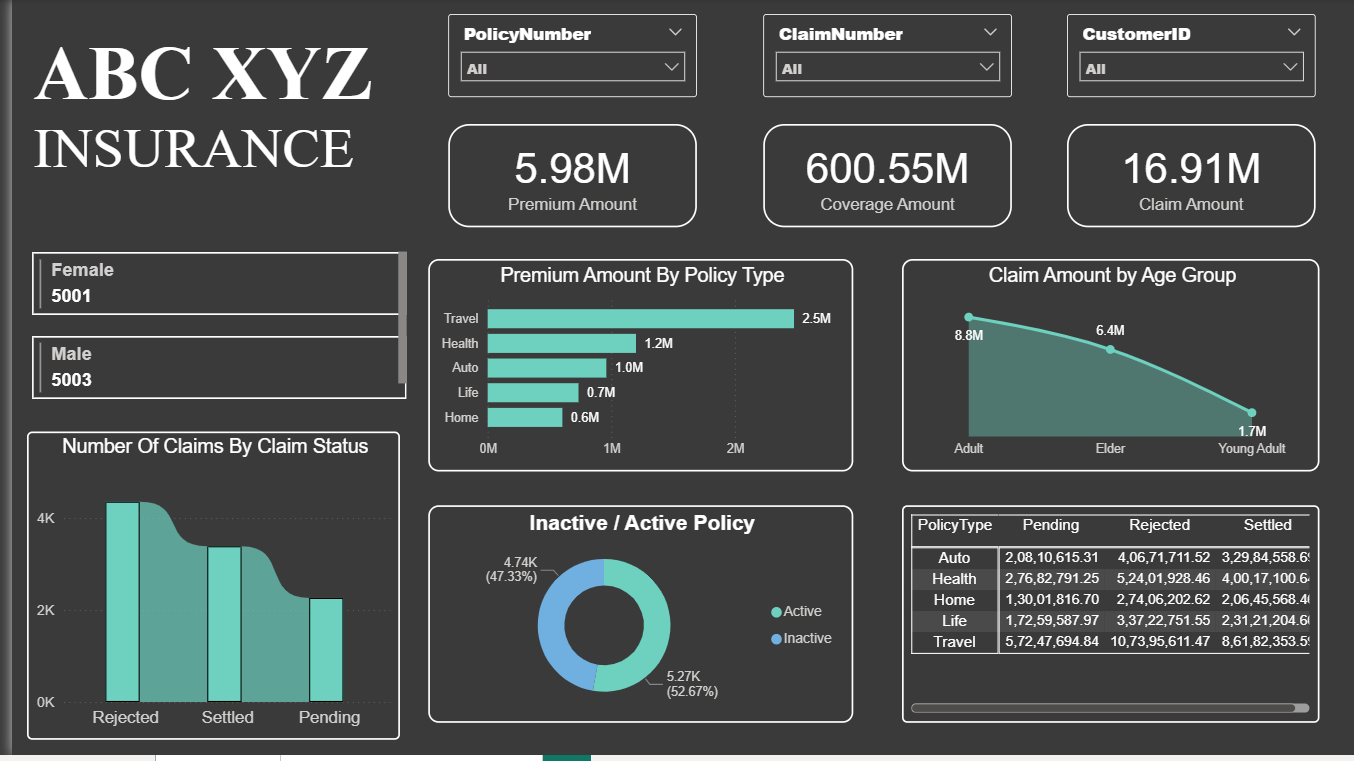

The page's visual inventory and layout, read from the dashboard file:
{"tool":"powerbi","page":{"name":"Dashboard","canvas":[1280,720],"ordinal":0},"visuals":[{"type":"slicer","fields":{"Values":["biproject insurancedata.PolicyNumber"]},"box":[416.1,14.8,237,79],"z":0},{"type":"slicer","fields":{"Values":["biproject insurancedata.ClaimNumber"]},"box":[716.1,14.8,237,79],"z":1000},{"type":"slicer","fields":{"Values":["biproject insurancedata.CustomerID"]},"box":[1004.9,14.8,237,79],"z":2000},{"type":"textbox","box":[15.1,24.7,334.8,163.3],"z":3000},{"type":"card","fields":{"Values":["Sum(biproject insurancedata.PremiumAmount)"]},"box":[416.1,118.5,237,98.8],"z":4000},{"type":"card","fields":{"Values":["Sum(biproject insurancedata.CoverageAmount)"]},"box":[716.1,118.5,237,98.8],"z":5000},{"type":"card","fields":{"Values":["Sum(biproject insurancedata.ClaimAmount)"]},"box":[1004.9,118.5,237,98.8],"z":6000},{"type":"multiRowCard","fields":{"Values":["biproject insurancedata.Gender","CountNonNull(biproject insurancedata.Gender)"]},"box":[14.8,235.8,366.7,151.9],"z":7000},{"type":"ribbonChart","title":"Number Of Claims By Claim Status","fields":{"Category":["biproject insurancedata.ClaimStatus"],"Y":["CountNonNull(biproject insurancedata.ClaimStatus)"]},"box":[14.8,412.3,355.6,293.8],"z":8000},{"type":"barChart","title":"Premium Amount By Policy Type","fields":{"Category":["biproject insurancedata.PolicyType"],"Y":["Sum(biproject insurancedata.PremiumAmount)"]},"box":[396.4,247.6,404.8,202.4],"z":9000},{"type":"lineChart","title":"Claim Amount by Age Group","fields":{"Category":["biproject insurancedata.Age Group"],"Y":["Sum(biproject insurancedata.ClaimAmount)"]},"box":[847.6,247.6,397.6,202.4],"z":10000},{"type":"donutChart","title":"Inactive / Active Policy","fields":{"Category":["biproject insurancedata.Active/Inactive"],"Y":["CountNonNull(biproject insurancedata.Active/Inactive)"]},"box":[396.4,482.1,404.8,207.1],"z":11000},{"type":"pivotTable","fields":{"Values":["Sum(biproject insurancedata.CoverageAmount)"],"Rows":["biproject insurancedata.PolicyType"],"Columns":["biproject insurancedata.ClaimStatus"]},"box":[847.6,482.1,397.6,207.1],"z":12000}]}

Visuals, with their boxes in screenshot pixels (x1, y1, x2, y2), scaled from the page's 1280x720 canvas onto the 1354x761 screenshot:
slicer - biproject insurancedata.PolicyNumber: box=[440, 16, 691, 99]
slicer - biproject insurancedata.ClaimNumber: box=[757, 16, 1008, 99]
slicer - biproject insurancedata.CustomerID: box=[1063, 16, 1314, 99]
textbox: box=[16, 26, 370, 199]
card - Sum(biproject insurancedata.PremiumAmount): box=[440, 125, 691, 230]
card - Sum(biproject insurancedata.CoverageAmount): box=[757, 125, 1008, 230]
card - Sum(biproject insurancedata.ClaimAmount): box=[1063, 125, 1314, 230]
multiRowCard - biproject insurancedata.Gender x CountNonNull(biproject insurancedata.Gender): box=[16, 249, 404, 410]
"Number Of Claims By Claim Status" ribbonChart: box=[16, 436, 392, 746]
"Premium Amount By Policy Type" barChart: box=[419, 262, 848, 476]
"Claim Amount by Age Group" lineChart: box=[897, 262, 1317, 476]
"Inactive / Active Policy" donutChart: box=[419, 510, 848, 728]
pivotTable - Sum(biproject insurancedata.CoverageAmount) x biproject insurancedata.PolicyType: box=[897, 510, 1317, 728]
